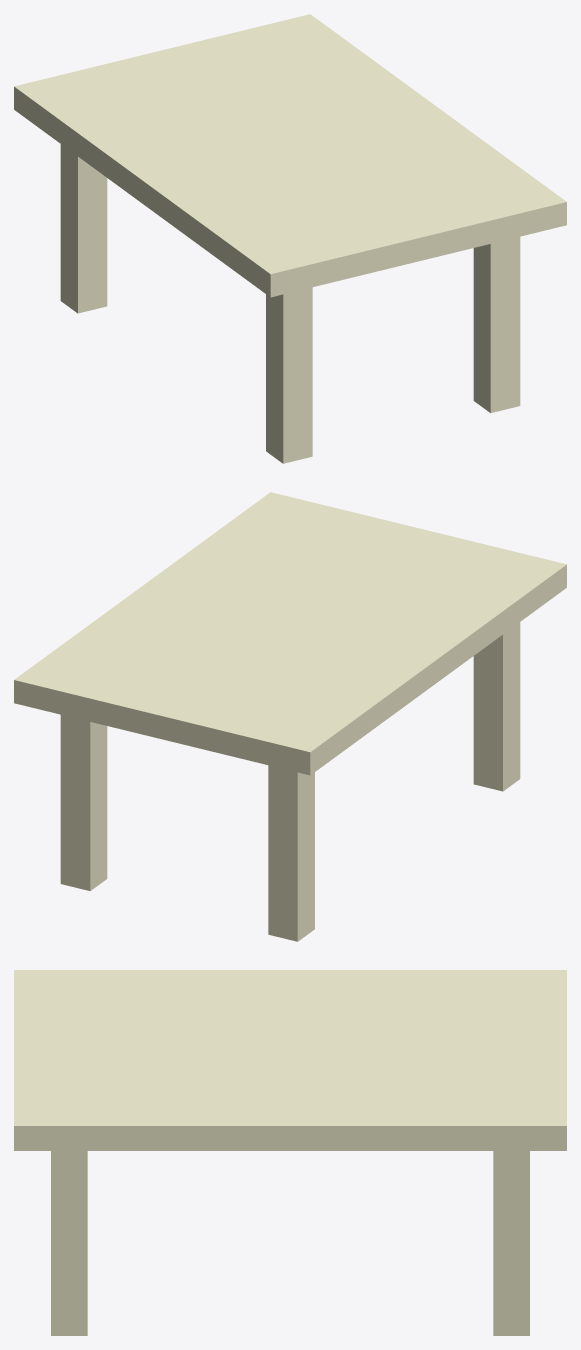
The model's file is Table_Large.glb.
3 renders of one model, top to bottom at view 1: azimuth 30°, elevation 25°; view 2: azimuth 150°, elevation 25°; view 3: azimuth 270°, elevation 25°, orthographic. The views are drawn at different scales.
Visible parts, largest first — view 1: Table Large; view 2: Table Large; view 3: Table Large.
Boxes of the visible parts, left/top/right/bottom form: Table Large: left=14, top=14, right=566, bottom=463; Table Large: left=14, top=492, right=566, bottom=941; Table Large: left=14, top=970, right=566, bottom=1335.
Size of the model in its own units: 1 by 0.675 by 1.5.
